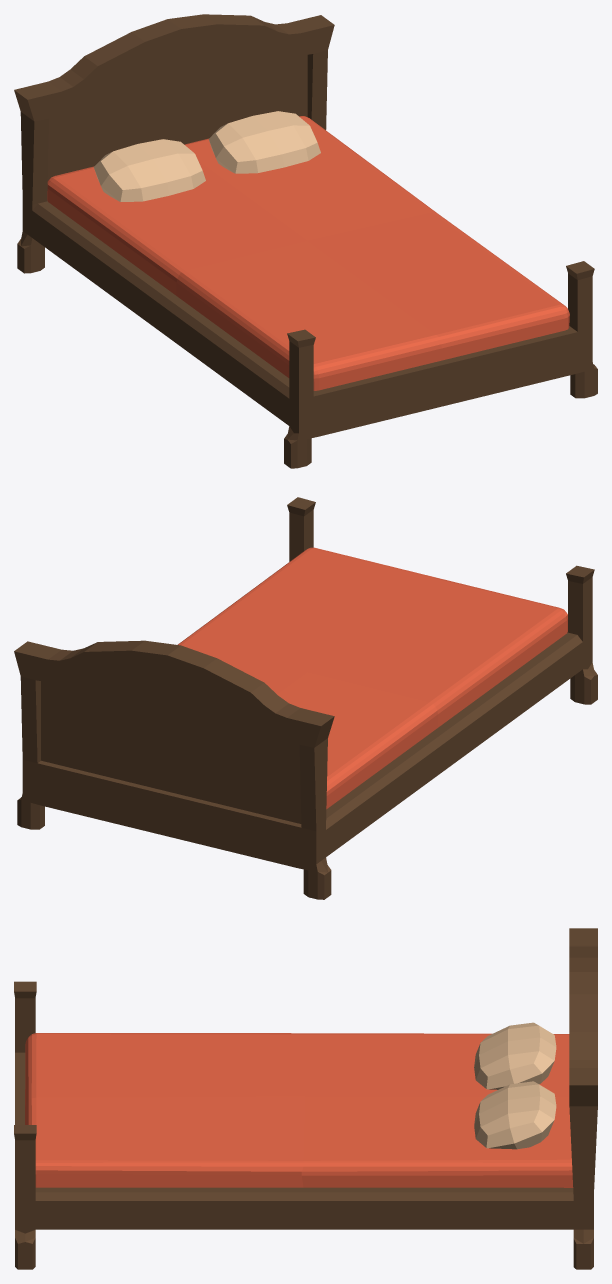
Rendered from bed.fbx.
The picture shows the model from 3 angles, top to bottom: view 1: azimuth 30°, elevation 25°; view 2: azimuth 150°, elevation 25°; view 3: azimuth 270°, elevation 25°; orthographic projection. The views are drawn at different scales.
Visible parts, largest first — view 1: bed; view 2: bed; view 3: bed.
Boxes of the visible parts, x1,y1,x2,y2 form: bed: (14,14,597,468); bed: (14,497,597,899); bed: (14,928,597,1269).
Bounding box in the file's own units: 213 × 139 × 335.
